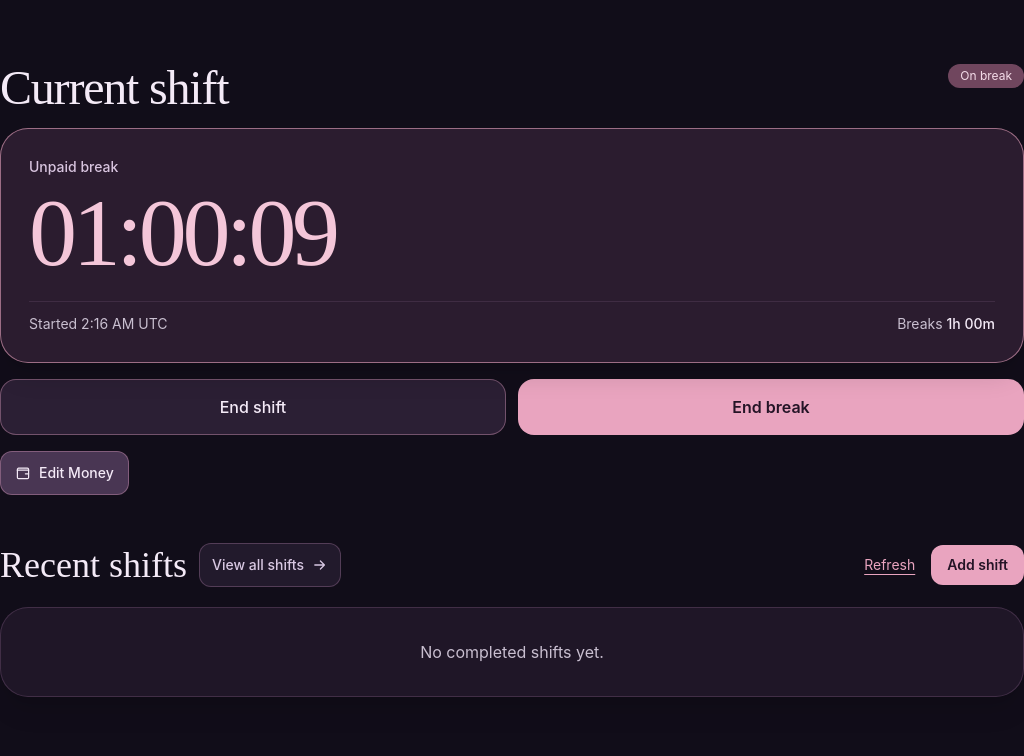
Test: shift logger › confirms ending a shift while on break and shows its saved summary
Expected: the text "On break" is shown, [948,64,1023,88]
Click the button "End shift".
click(253, 407)  # box [0,379,506,435]
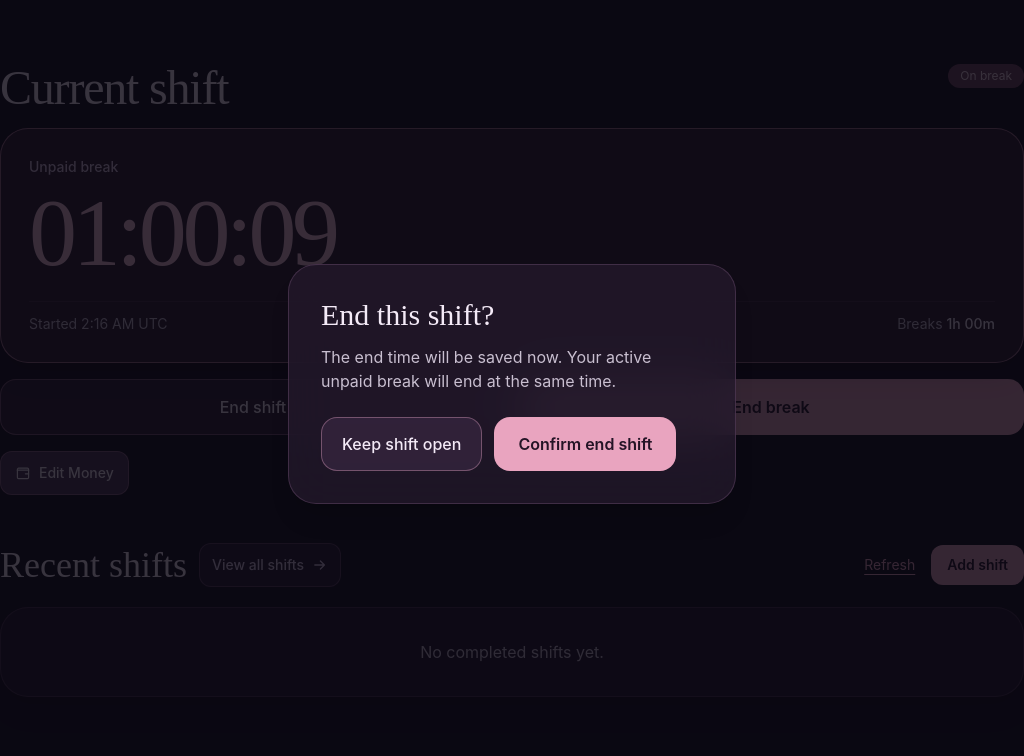
Expected: the dialog shows "Your active unpaid break will end at the same time.", [321,347,651,391]
Click the button "Confirm end shift".
click(585, 444)  # box [494,417,676,471]
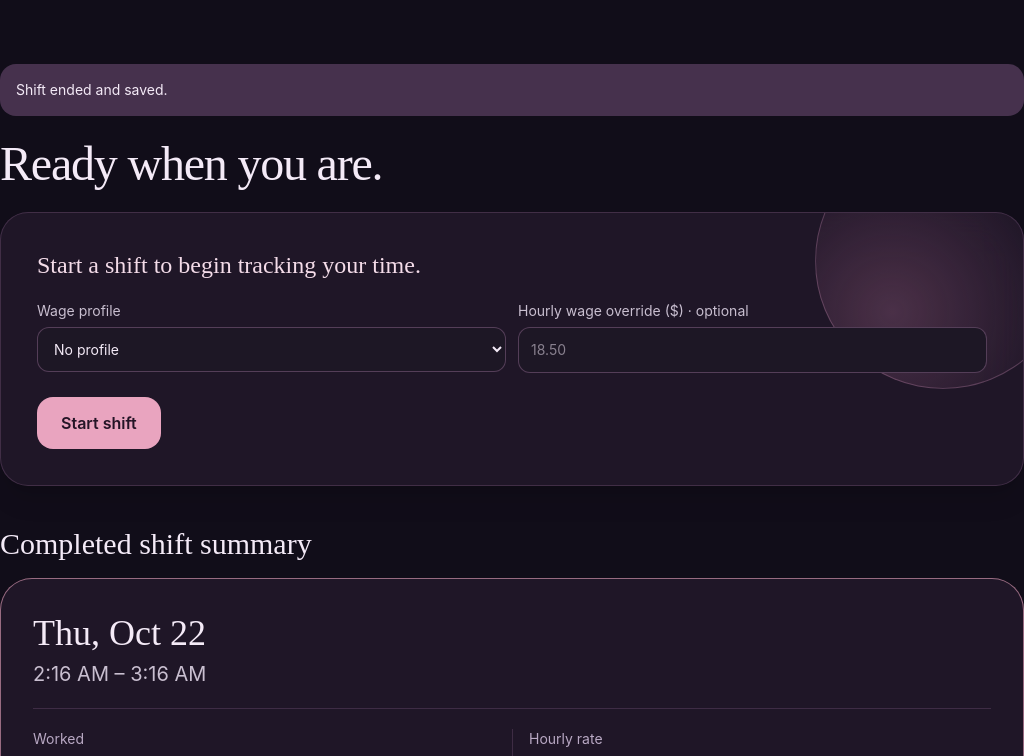
Expected: the heading "Completed shift summary" is shown, [0,527,312,560]
